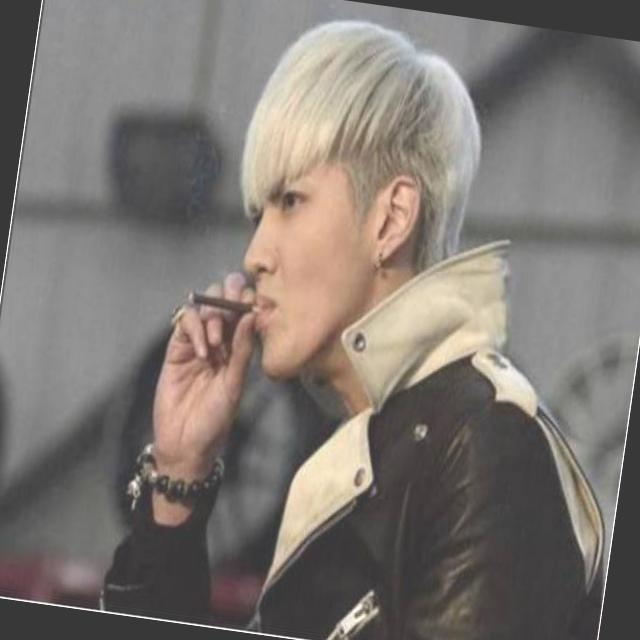smoke: (166, 252, 294, 342)
